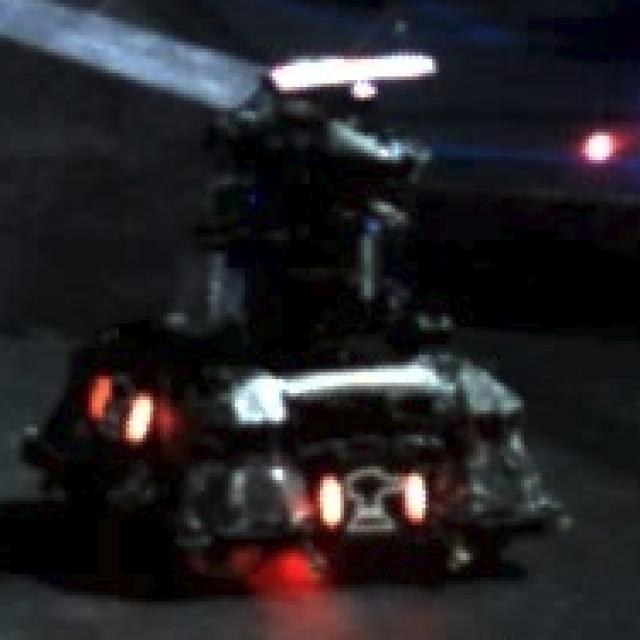Rs: (320, 466, 426, 532), (92, 372, 153, 449)
